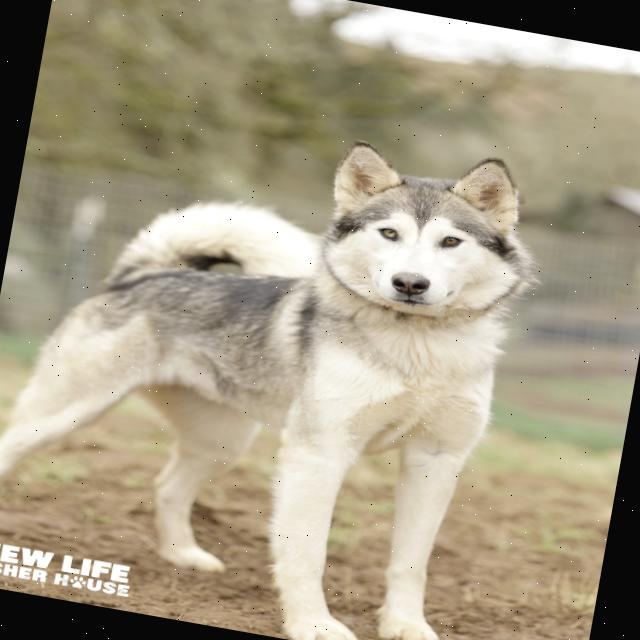siberian_husky_dog: (291, 119, 573, 361)
